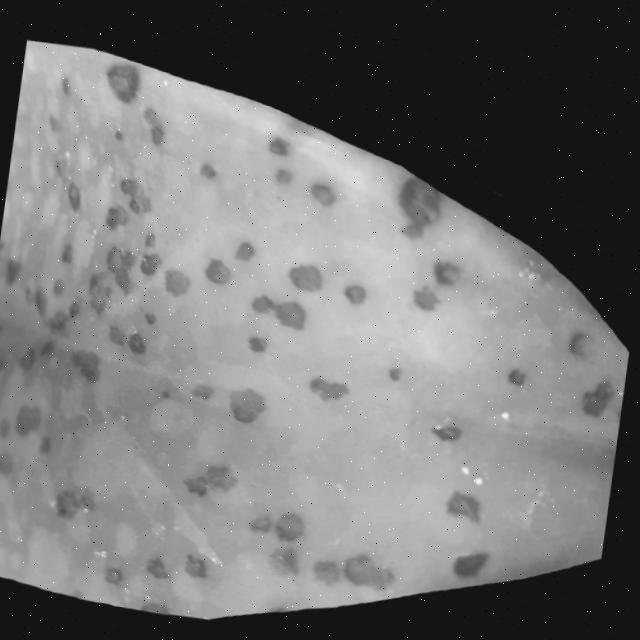mite: (101, 59, 144, 104), (579, 377, 618, 419), (285, 260, 326, 293), (306, 179, 340, 208), (430, 420, 466, 444), (341, 281, 370, 306)
spots: (0, 40, 638, 640)
